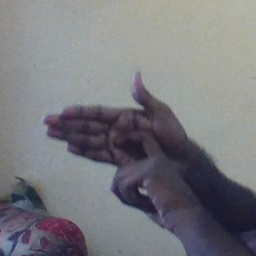R: (42, 69, 199, 211)
